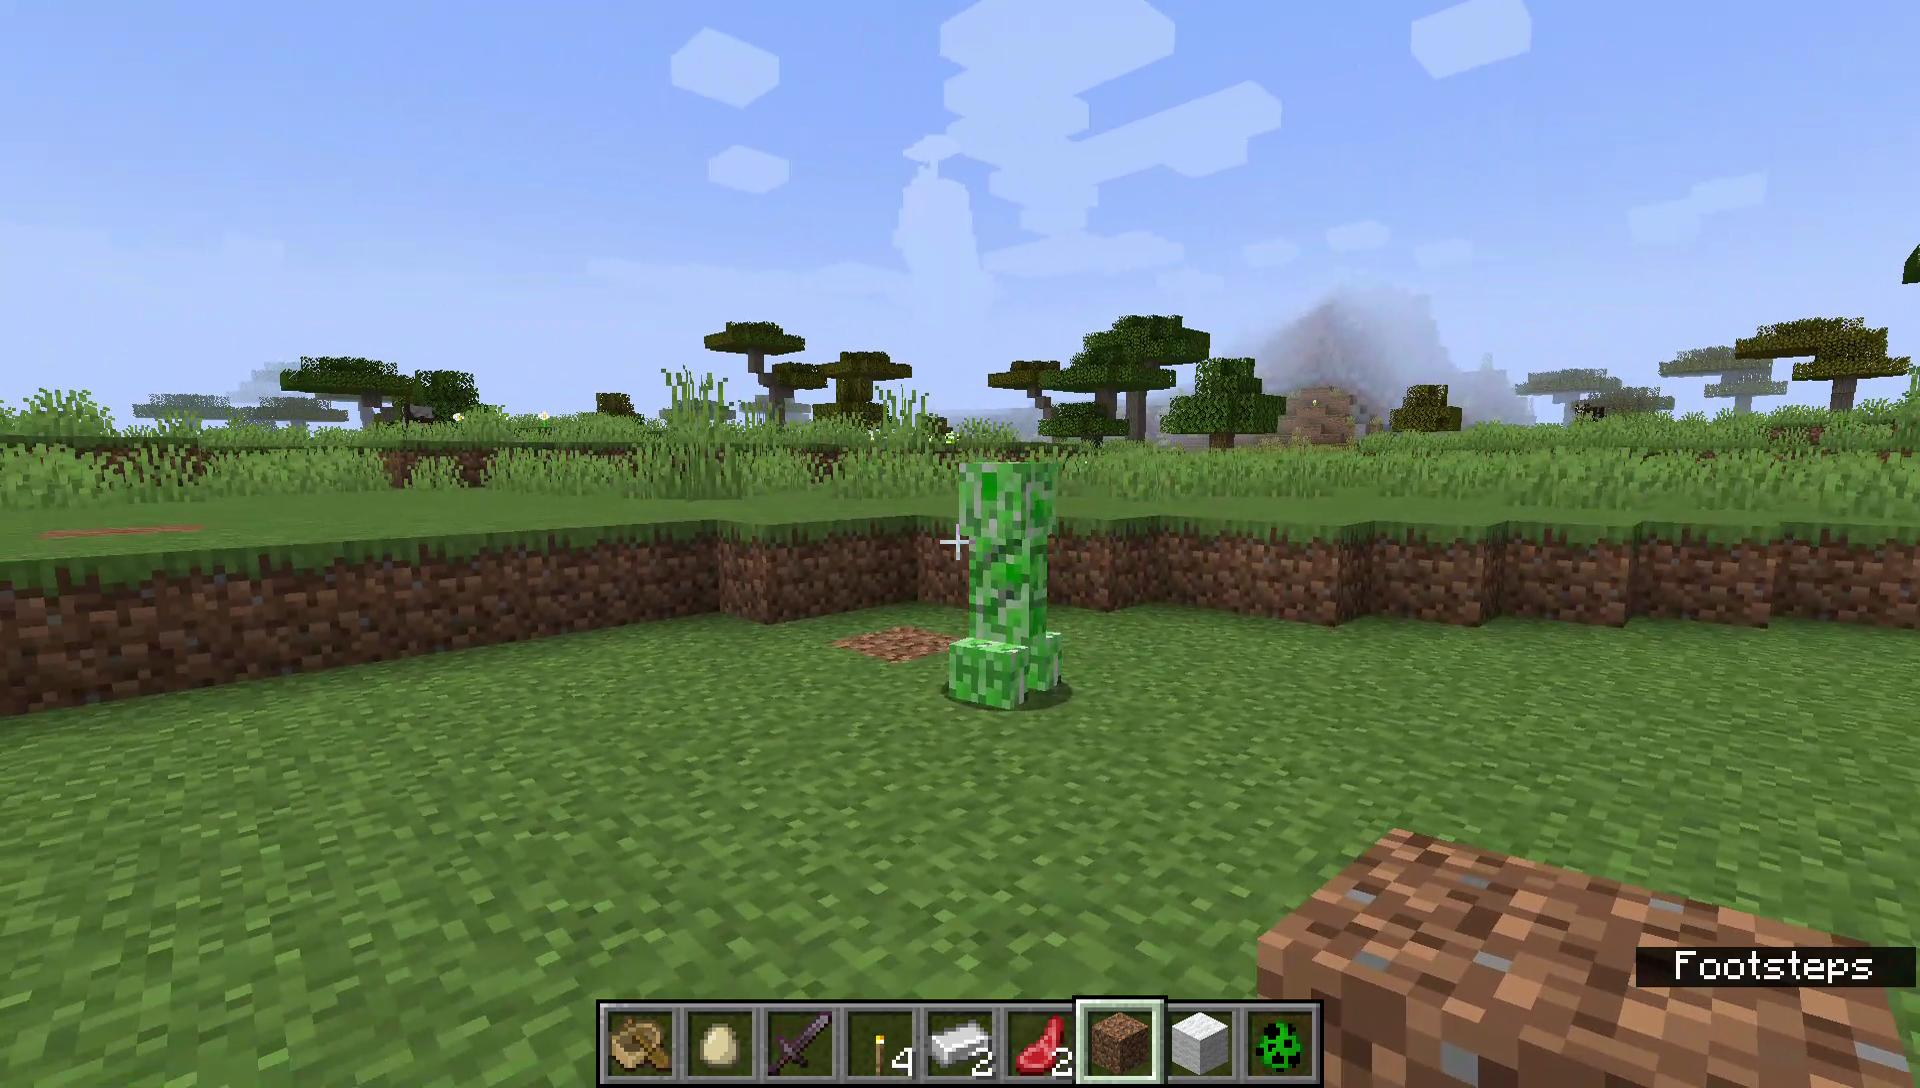creeper: (942, 456, 1069, 720)
